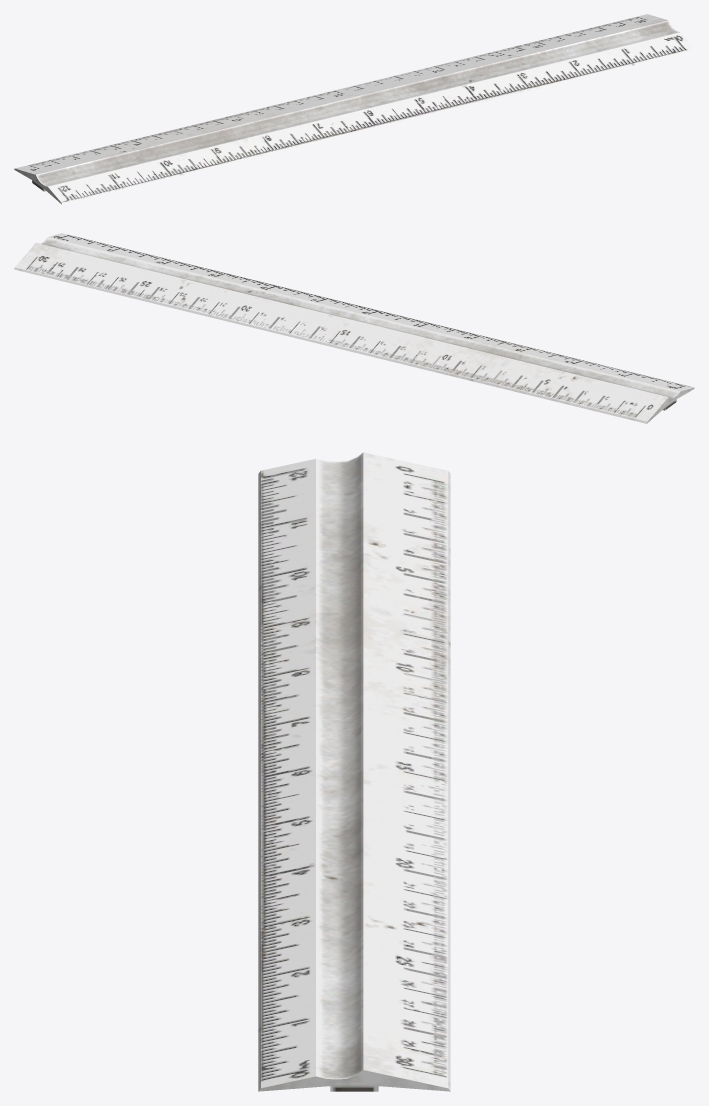
The model's file is ruler.FBX.
3 views of the same model, one above another, from view 1: azimuth 30°, elevation 25°; view 2: azimuth 150°, elevation 25°; view 3: azimuth 270°, elevation 25° (orthographic). The views are drawn at different scales.
Parts seen in each view (by area): view 1: SM_Ruler; view 2: SM_Ruler; view 3: SM_Ruler.
Boxes of the visible parts, bbox=[...] form: SM_Ruler: bbox=[14, 14, 694, 204]; SM_Ruler: bbox=[14, 233, 694, 423]; SM_Ruler: bbox=[258, 452, 450, 1091].
Bounding box in the file's own units: 30.89 × 0.5052 × 4.07.
Materials: 1 (1 with a texture image).
